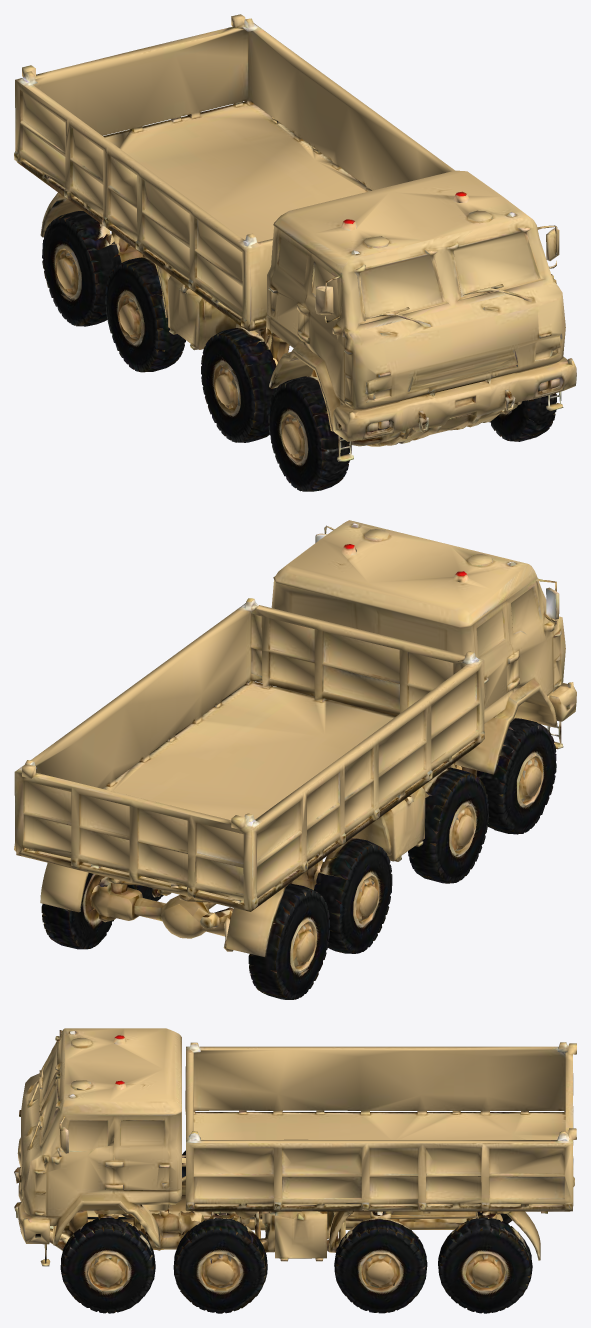
File: truck.glb
The picture shows the model from 3 angles, top to bottom: view 1: azimuth 30°, elevation 25°; view 2: azimuth 150°, elevation 25°; view 3: azimuth 270°, elevation 25°; orthographic projection. The views are drawn at different scales.
Visible parts, largest first — view 1: truck; view 2: truck; view 3: truck.
Boxes of the visible parts, left/top/right/bottom form: truck: left=14, top=14, right=576, bottom=491; truck: left=14, top=520, right=576, bottom=999; truck: left=14, top=1028, right=576, bottom=1313.
Size of the model in its own units: 1.03 by 1 by 2.45.
1 material, 1 textured.
